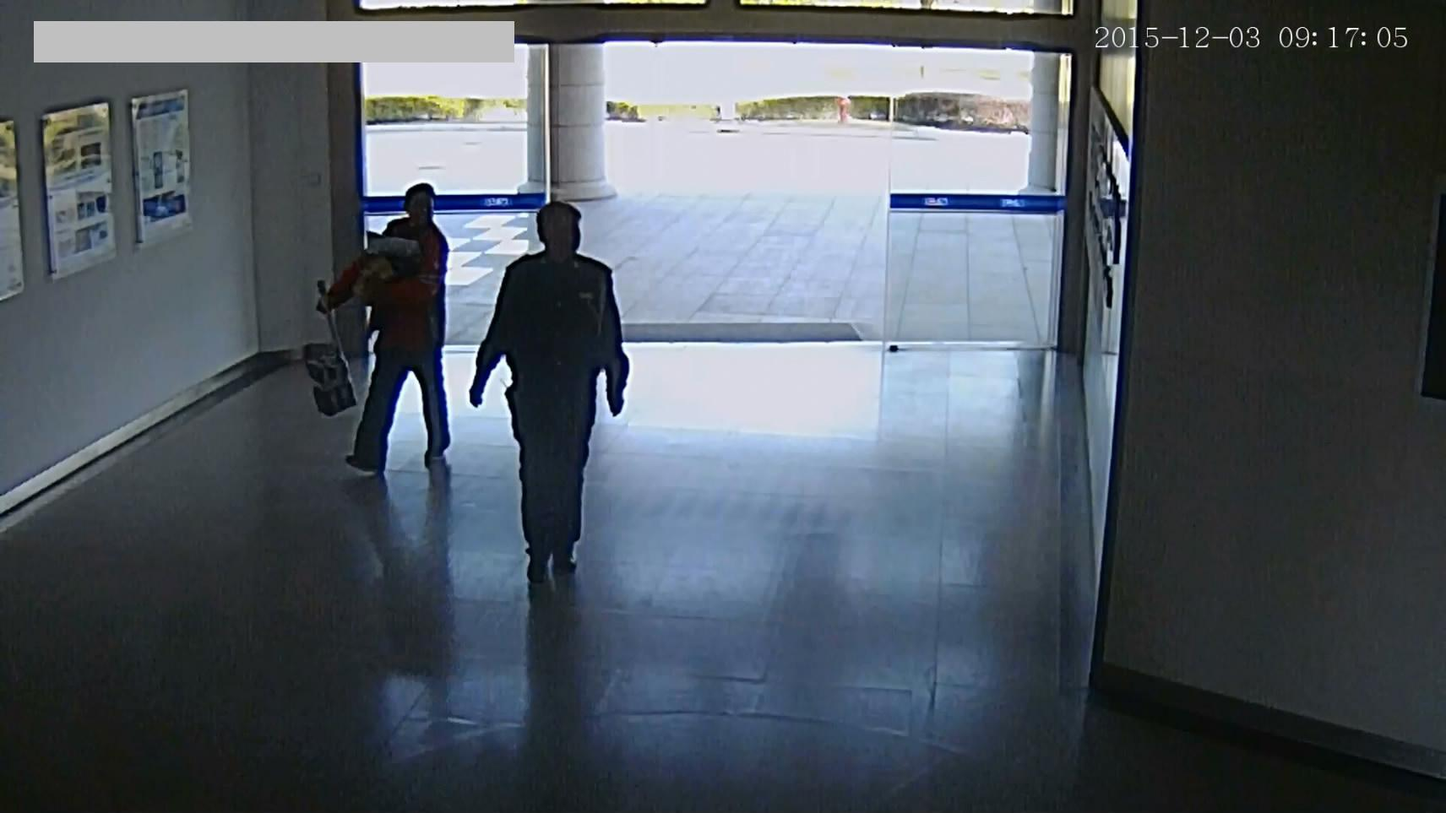person: (459, 192, 644, 589), (291, 150, 469, 490)
